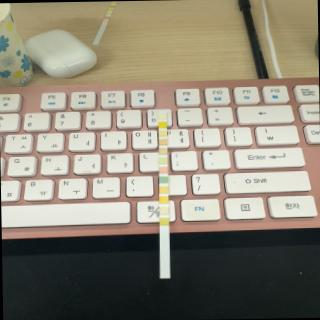mark: (158, 156, 167, 164), (158, 186, 168, 193), (160, 217, 168, 225), (160, 206, 168, 214), (159, 196, 168, 203), (159, 175, 168, 182), (158, 166, 167, 173), (158, 129, 166, 136), (159, 148, 167, 154), (158, 139, 166, 145), (158, 121, 166, 127), (158, 113, 166, 119)
